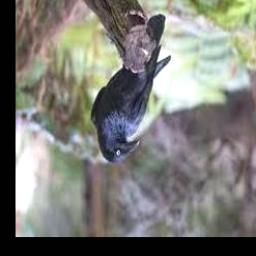Crow: (90, 45, 171, 163)
